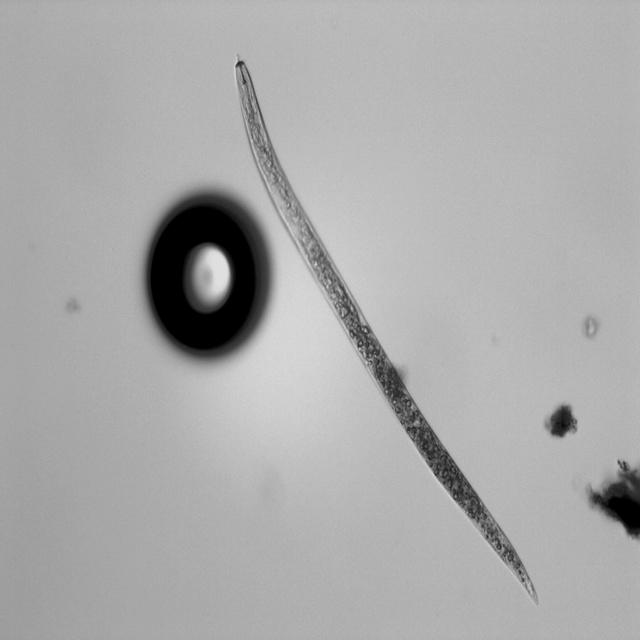Radopholus: (228, 54, 550, 614)
